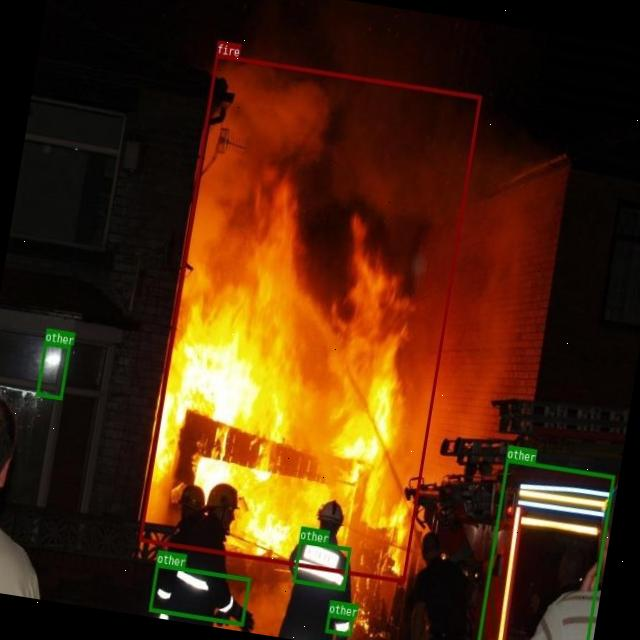fire: (138, 54, 481, 582)
